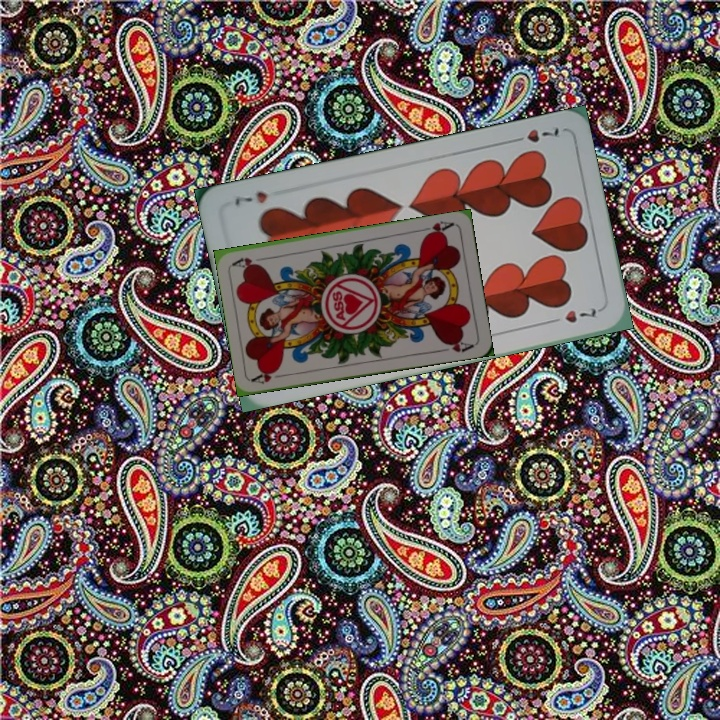H7: (505, 124, 562, 146)
HA: (249, 365, 290, 387), (416, 217, 456, 239)
